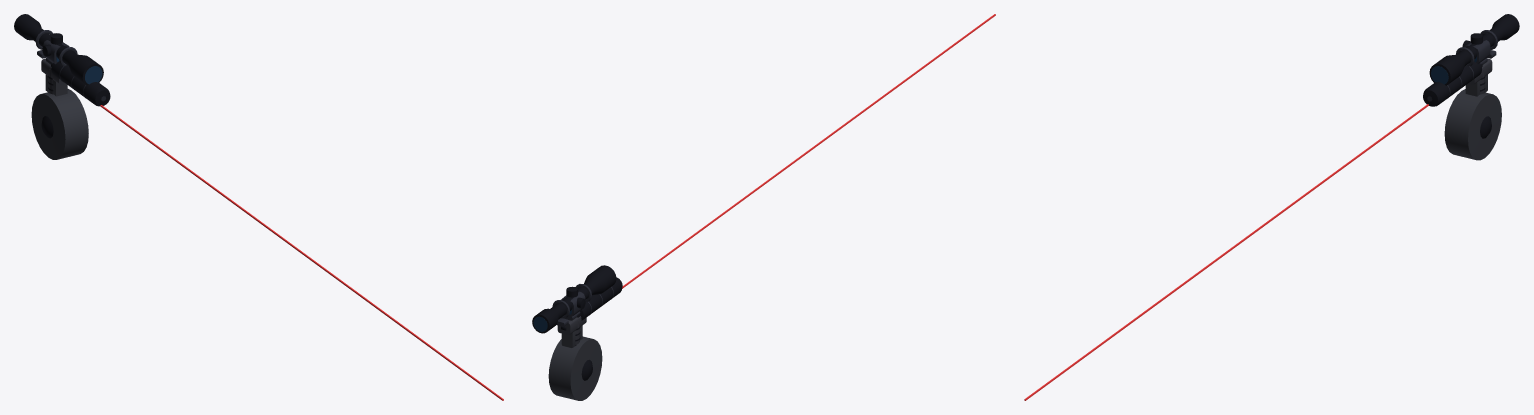
Rendered from attach.fbx.
3 views of the same model, side by side, from view 1: azimuth 30°, elevation 25°; view 2: azimuth 150°, elevation 25°; view 3: azimuth 330°, elevation 25° (orthographic). The views are drawn at different scales.
Parts seen in each view (by area): view 1: drum, profiler, beam, silencer; view 2: drum, profiler, beam, silencer; view 3: drum, profiler, beam, silencer.
Part boxes in pixels (x1=…): drum: x1=31, y1=62, x2=88, y2=159; profiler: x1=14, y1=14, x2=103, y2=85; beam: x1=100, y1=105, x2=503, y2=400; silencer: x1=51, y1=61, x2=110, y2=106; drum: x1=548, y1=317, x2=602, y2=400; profiler: x1=532, y1=265, x2=616, y2=333; beam: x1=622, y1=14, x2=995, y2=288; silencer: x1=577, y1=277, x2=622, y2=320; drum: x1=1444, y1=62, x2=1501, y2=160; profiler: x1=1429, y1=14, x2=1519, y2=85; beam: x1=1024, y1=104, x2=1428, y2=400; silencer: x1=1423, y1=61, x2=1482, y2=106.
Size of the model in its own units: 6.2 by 22.1 by 165.
